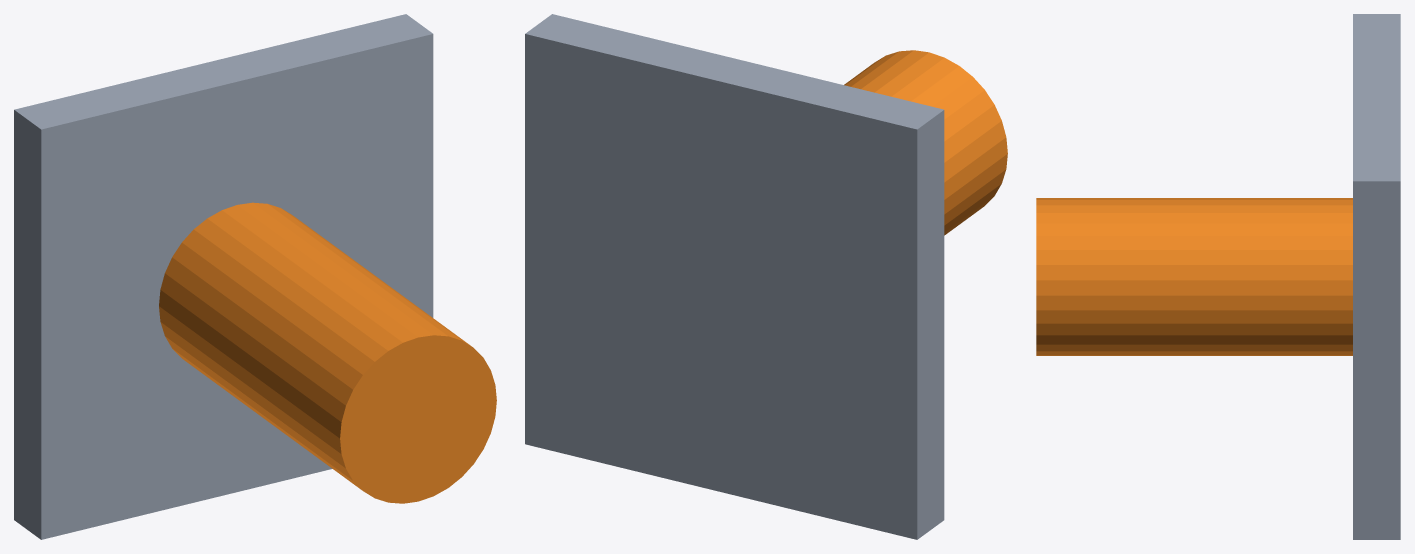
The model's file is post_on_plate.obj.
3 views of the same model, side by side, from view 1: azimuth 30°, elevation 25°; view 2: azimuth 150°, elevation 25°; view 3: azimuth 270°, elevation 25° (orthographic). The views are drawn at different scales.
Parts seen in each view (by area): view 1: plate, post; view 2: plate, post; view 3: post, plate.
Boxes of the visible parts, x1,y1,x2,y2 form: plate: (14,14,433,539); post: (159,202,496,503); plate: (525,14,944,539); post: (844,50,1007,235); post: (1036,198,1352,355); plate: (1353,14,1400,539).
Bounding box in the file's own units: 50 × 50 × 46.
